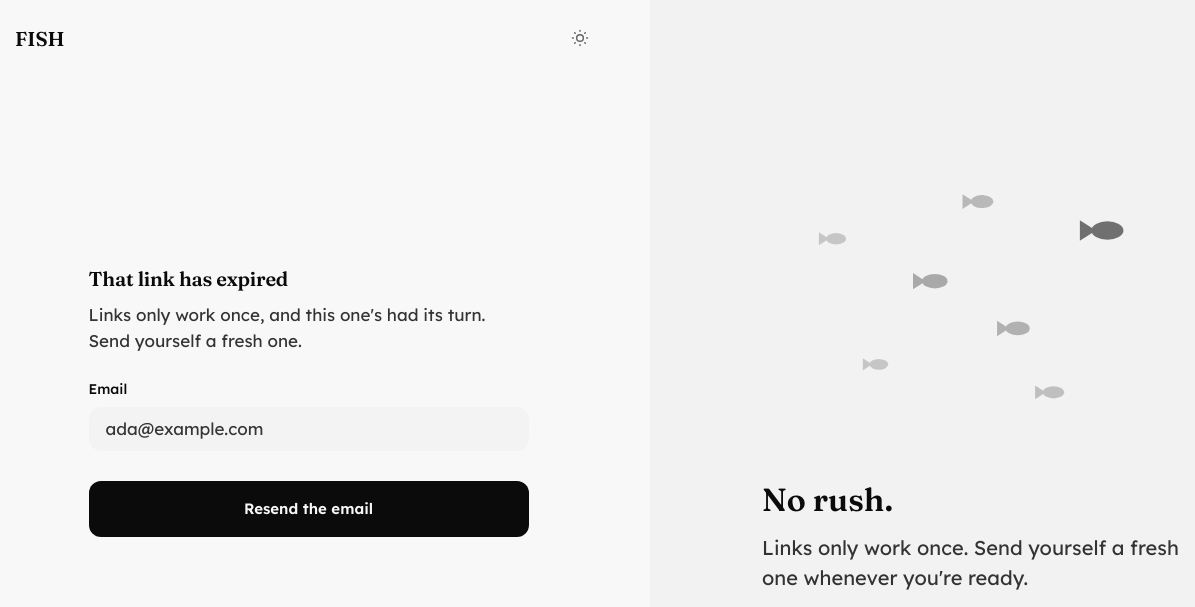
Test: ExpiredLinkPage › the card wrapper stays relative and the notice overlay is positioned out of flow above it, and fades in
The image size is (1195, 607).
expect the 1st button with class "relative" is shown: met, box x1=558 y1=16 x2=602 y2=60
Click the button "Resend the email".
click(308, 509)  # box x1=88 y1=481 x2=528 y2=537
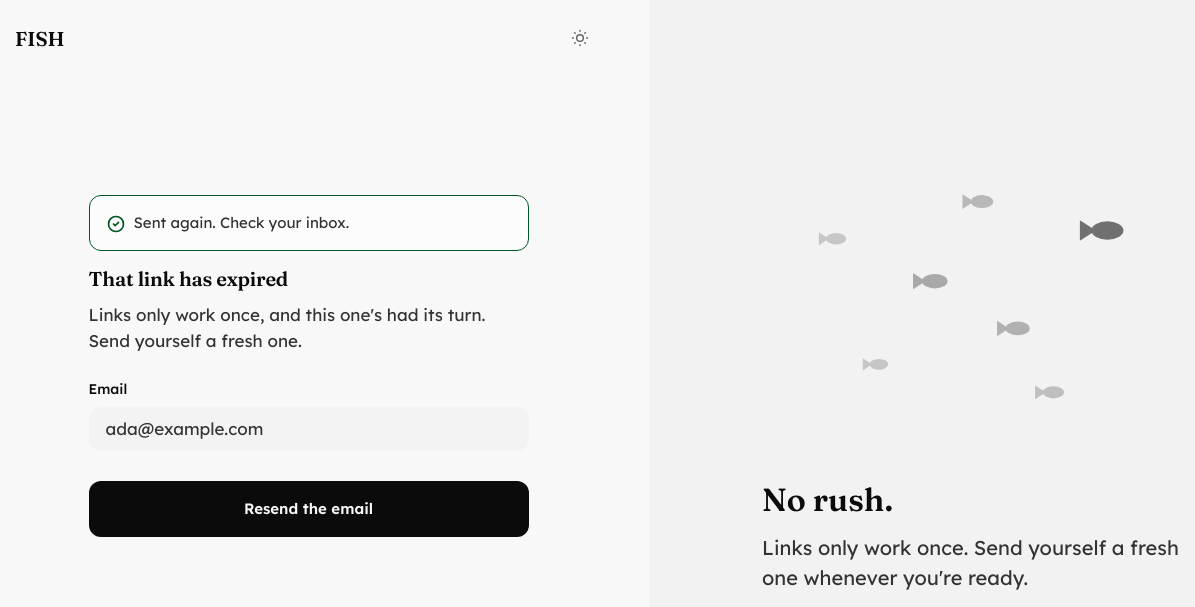
expect the text "Sent again. Check your inbox." is shown: met, box x1=134 y1=212 x2=349 y2=234
